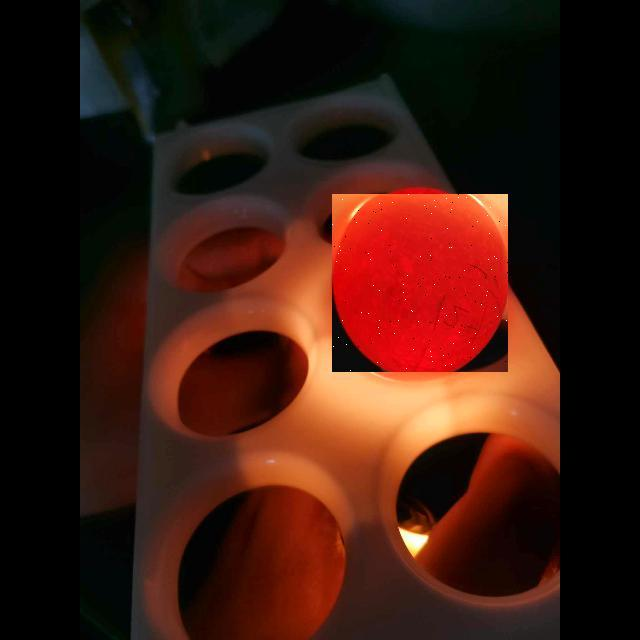Infertile: (332, 194, 508, 372)
